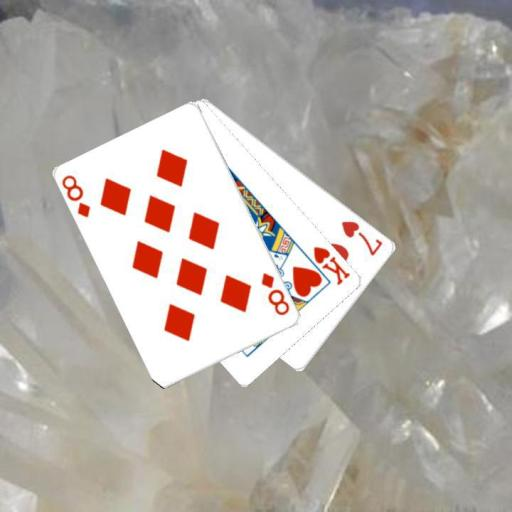7H: (339, 218, 385, 258)
8D: (59, 171, 92, 220), (258, 270, 292, 317)
KH: (310, 243, 352, 287)
